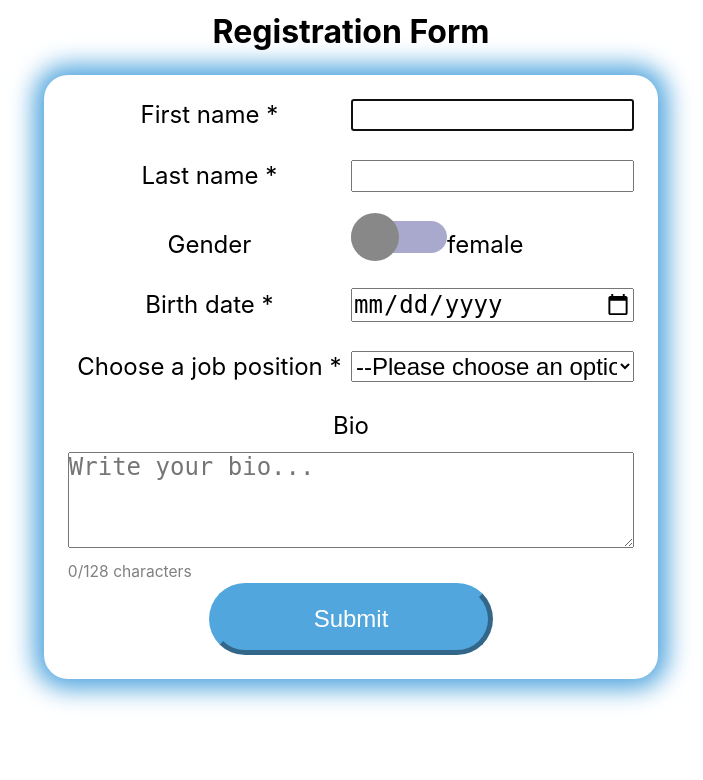
Test case: should render 4 span warnings if all 4 inputs are empty
Step 1. Click the button "Submit" → [351, 619], box [209, 583, 493, 655]
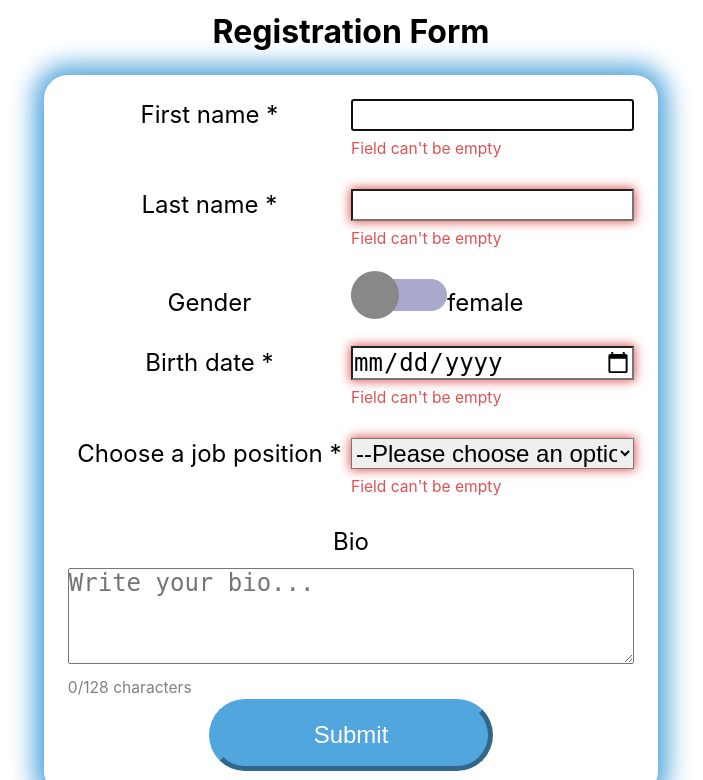
Now the number of elements with class "registrationForm__span--warning" is 4, box [351, 139, 502, 158]; [351, 229, 502, 248]; [351, 388, 502, 407]; [351, 477, 502, 496]
Now the text with class "registrationForm__span--warning" below "First name *" reads "Field can't be empty", box [351, 139, 502, 158]
Now the text with class "registrationForm__span--warning" below "Last name *" reads "Field can't be empty", box [351, 229, 502, 248]
